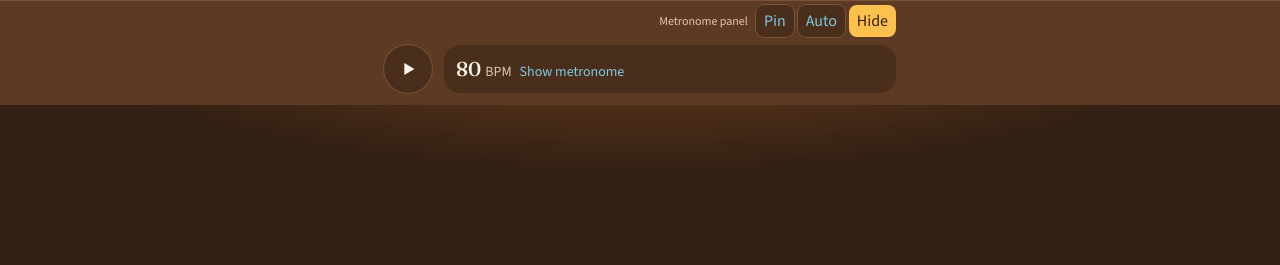
Test: transport bar display modes › collapsed mode keeps the pendulum open until Hide is tapped
Step 1. Click the button "Show metronome" → (572, 72), box [444,45,896,93]
Wait 4000 ms
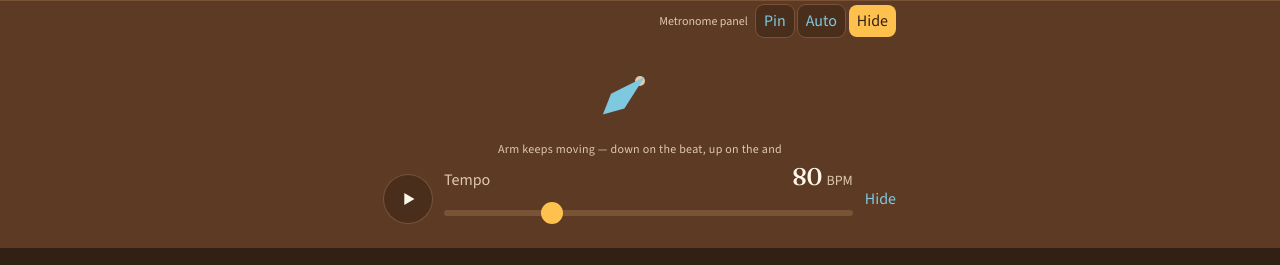
Result: the text "Arm keeps moving — down on the beat, up on the and" is shown at [498,141,782,157]
Step 2. Click the button "Hide" next to "BPM" → (880, 198), box [865,178,896,218]
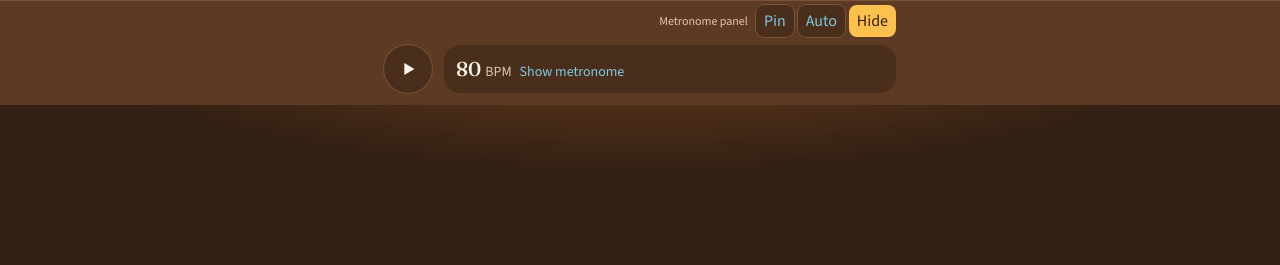
Result: the text "Arm keeps moving" is gone
